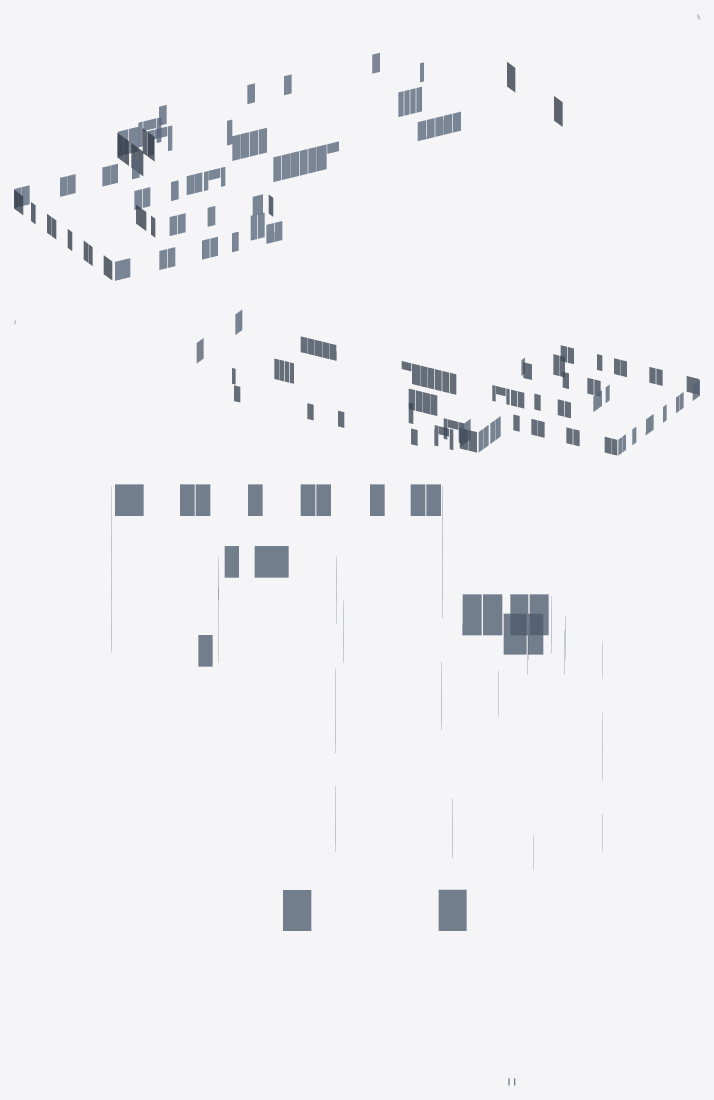
The model's file is envFirstFloor_Windows.fbx.
3 views of the same model, one above another, from view 1: azimuth 30°, elevation 25°; view 2: azimuth 150°, elevation 25°; view 3: azimuth 270°, elevation 25° (orthographic). The views are drawn at different scales.
Parts seen in each view (by area): view 1: envFirstFloor_Windows; view 2: envFirstFloor_Windows; view 3: envFirstFloor_Windows.
Part boxes in pixels (<box>): envFirstFloor_Windows: <box>14,14,699,280</box>; envFirstFloor_Windows: <box>14,310,699,455</box>; envFirstFloor_Windows: <box>111,484,602,1085</box>.
Bounding box in the file's own units: 10658 × 356 × 3869.
